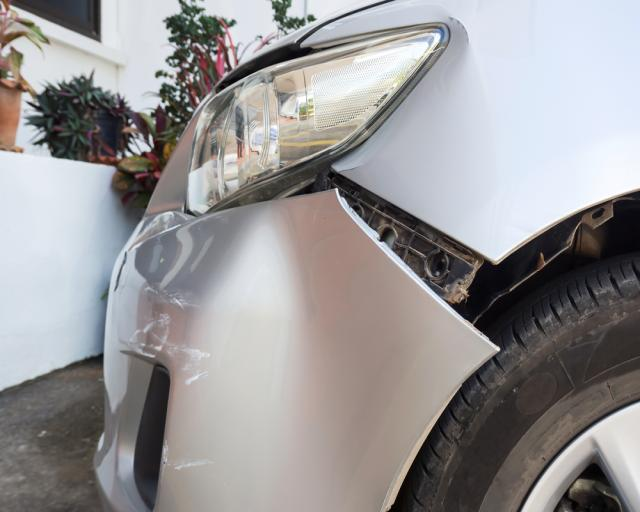dent: (166, 193, 443, 512)
scratch: (128, 282, 205, 378)
